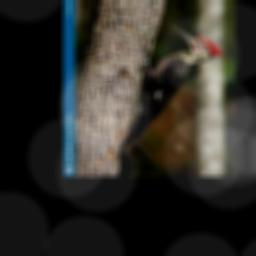Woodpecker: (118, 25, 221, 157)
